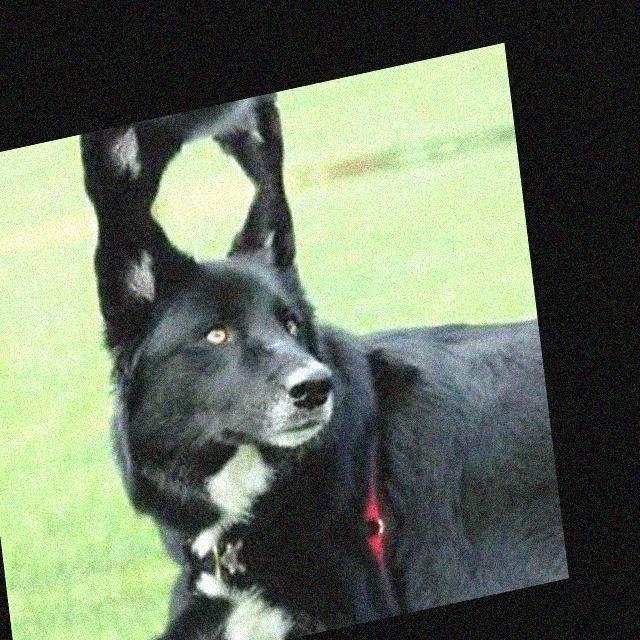dog: (79, 174, 364, 551), (68, 84, 324, 226), (124, 559, 378, 640)
